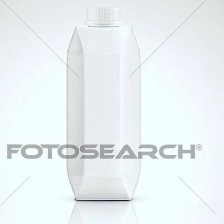carton: (64, 3, 144, 203)
